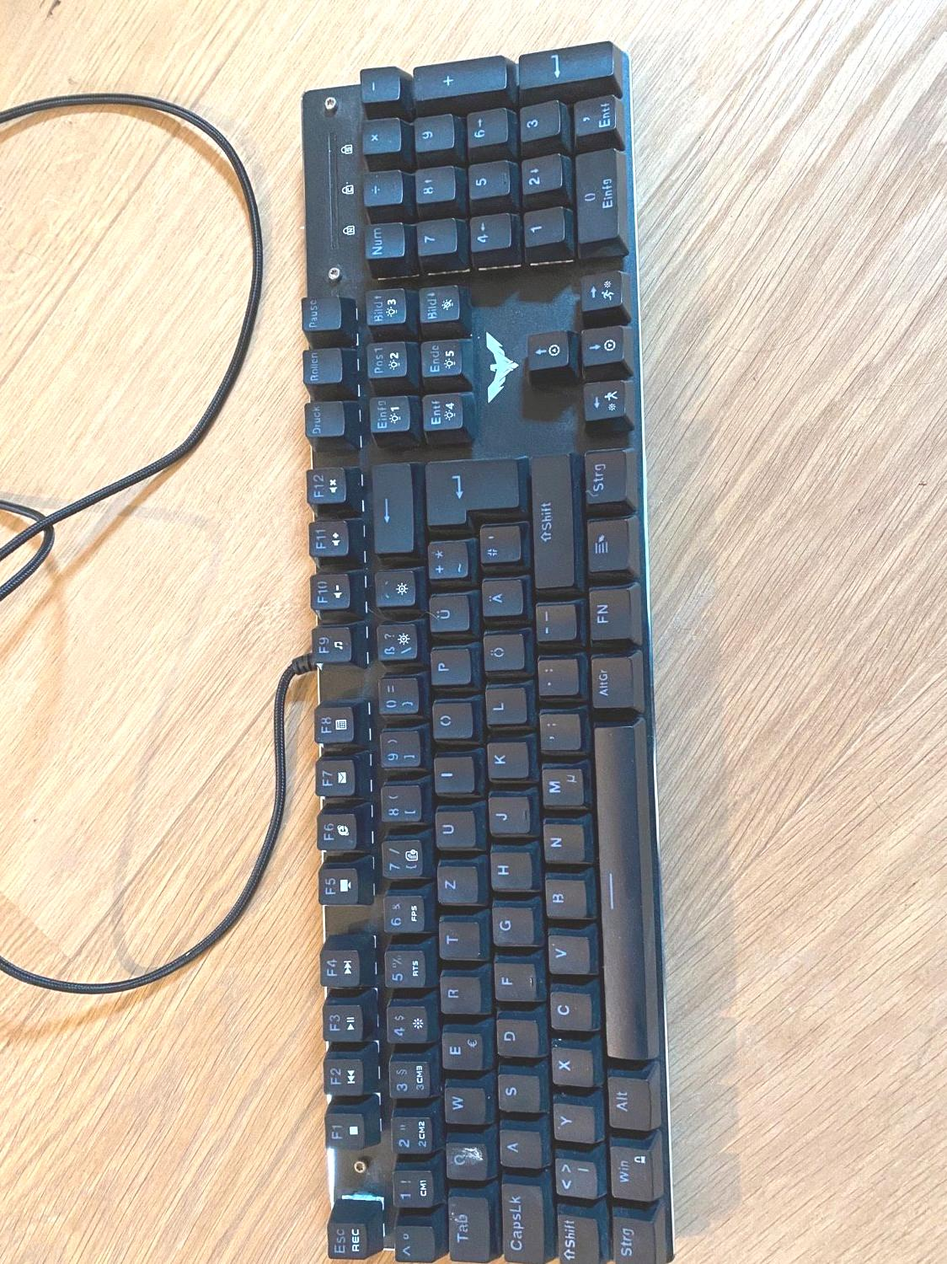0: (377, 678, 423, 716)
1: (389, 1168, 436, 1210)
2: (389, 1113, 436, 1158)
3: (389, 1059, 431, 1101)
4: (384, 1004, 431, 1047)
5: (383, 947, 430, 992)
6: (382, 893, 426, 937)
7: (379, 839, 426, 881)
8: (376, 785, 425, 824)
9: (377, 730, 423, 769)
a: (497, 1127, 545, 1172)
accent: (372, 566, 419, 608)
ae: (477, 575, 527, 621)
alt-left: (606, 1073, 656, 1135)
altgr-right: (591, 654, 641, 713)
b: (541, 876, 592, 922)
c: (547, 988, 596, 1036)
caret: (392, 1223, 437, 1263)
comma: (538, 710, 584, 753)
d: (494, 1017, 543, 1060)
del: (370, 458, 417, 557)
e: (441, 1030, 488, 1076)
enter: (423, 458, 524, 528)
f: (494, 961, 538, 1004)
g: (491, 904, 538, 950)
h: (489, 849, 535, 892)
hash: (477, 522, 524, 565)
i: (431, 753, 479, 793)
j: (488, 793, 533, 838)
k: (485, 741, 531, 780)
keyboard: (296, 27, 676, 1264)
l: (483, 686, 529, 726)
less: (552, 1156, 602, 1203)
m: (538, 766, 589, 810)
minus: (532, 604, 580, 642)
n: (542, 819, 589, 865)
o: (430, 699, 478, 742)
oe: (479, 630, 530, 676)
p: (427, 645, 475, 688)
plus: (424, 538, 473, 583)
point: (534, 655, 583, 699)
q: (444, 1139, 491, 1185)
r: (438, 969, 486, 1017)
s: (497, 1072, 542, 1115)
shift-left: (554, 1213, 605, 1264)
shift-lock: (497, 1182, 549, 1264)
shift-right: (528, 453, 581, 592)
space: (593, 722, 661, 1063)
ss: (375, 624, 420, 661)
strg-left: (611, 1214, 661, 1264)
strg-right: (580, 447, 634, 506)
t: (437, 918, 487, 963)
tab: (444, 1193, 495, 1264)
u: (433, 809, 481, 849)
ue: (427, 593, 473, 634)
v: (547, 935, 592, 976)
w: (441, 1085, 490, 1127)
x: (548, 1046, 597, 1091)
y: (548, 1099, 601, 1146)
z: (435, 861, 483, 908)
